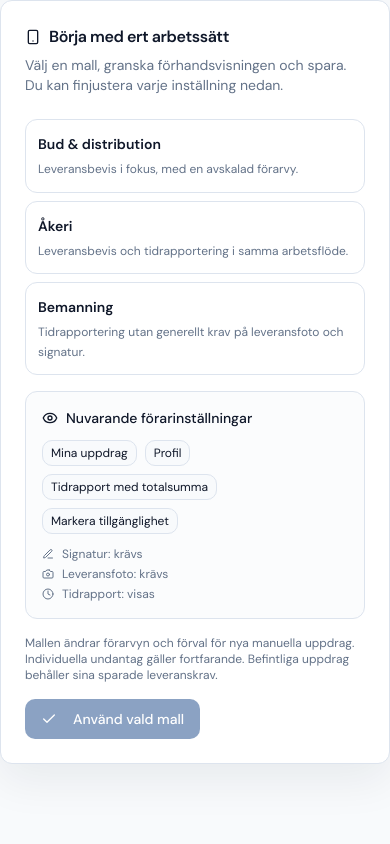
Test case: driver settings profiles › previews a profile without writing and applies the complete profile once
Later steps or results of the test are not shown.
Click the button "Bud & distribution": (99, 144) [25, 119, 365, 192]
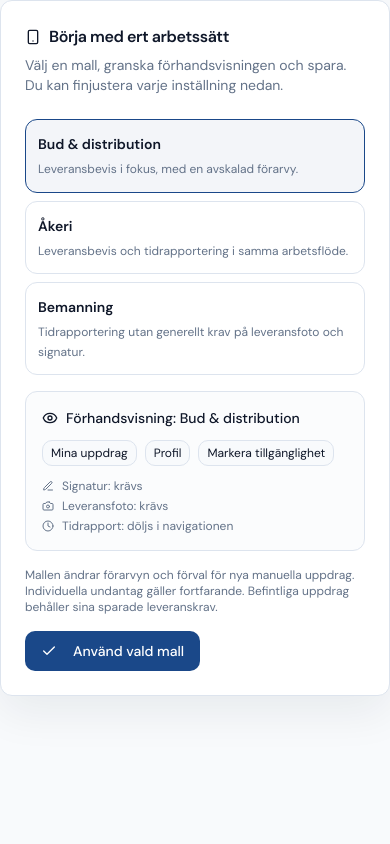
Check: the text "Tidrapport: döljs i navigationen" is shown, box [42, 518, 233, 534]
